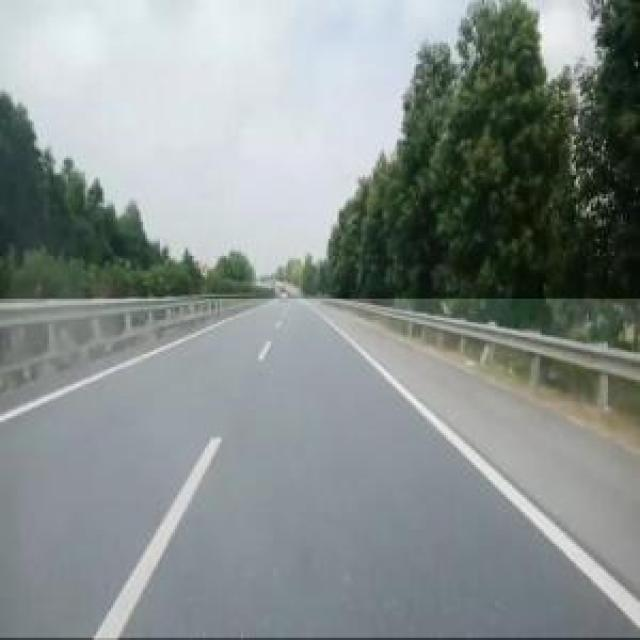clear-road: (0, 299, 640, 640)
